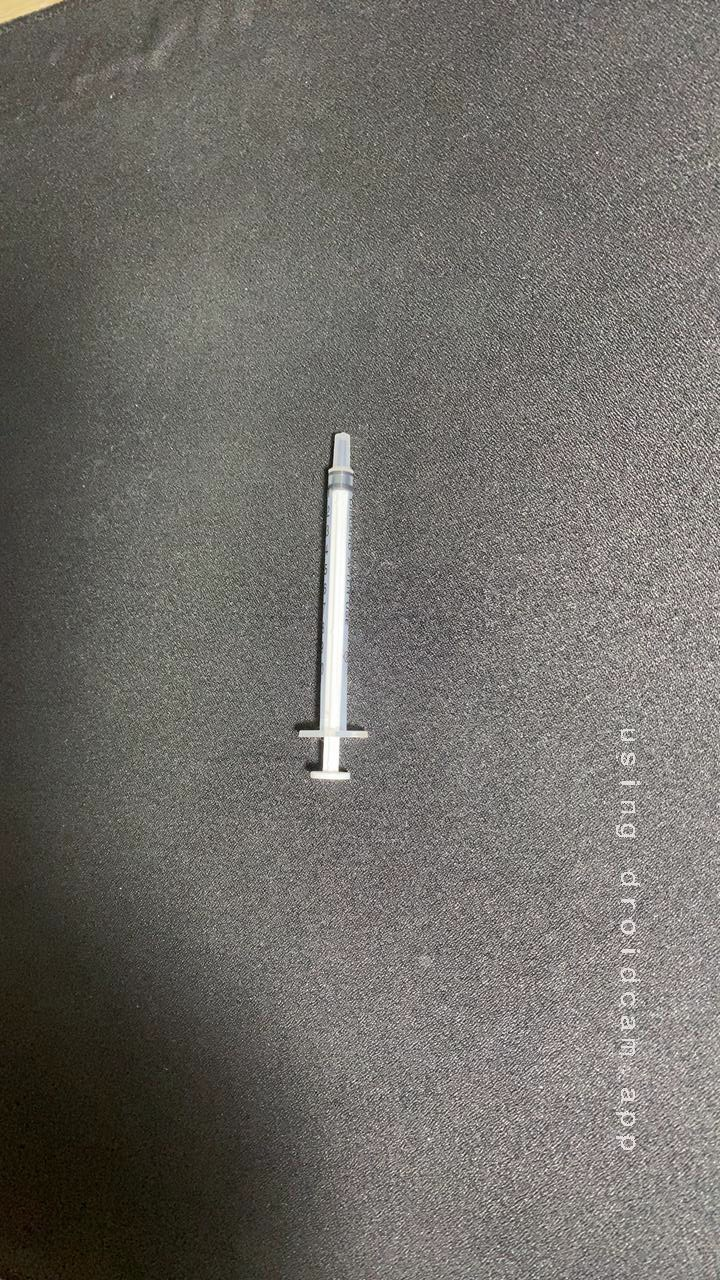syringe: (266, 439, 393, 791)
